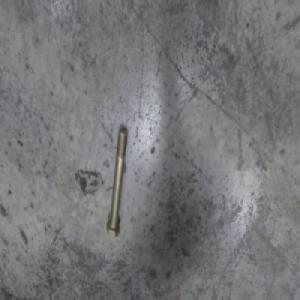Bolt: (106, 123, 129, 242)
